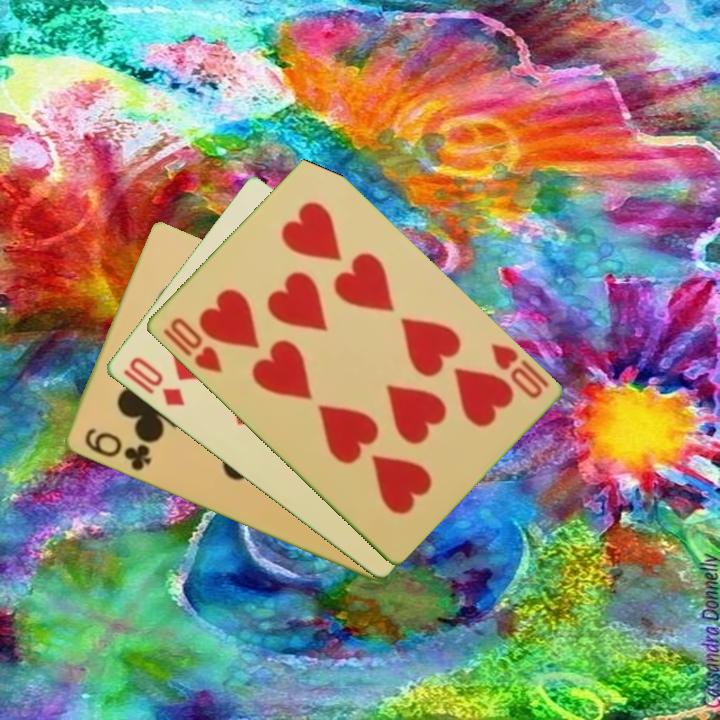10d: (125, 353, 187, 410)
10h: (486, 339, 552, 402), (166, 313, 225, 377)
6c: (80, 424, 154, 475)
